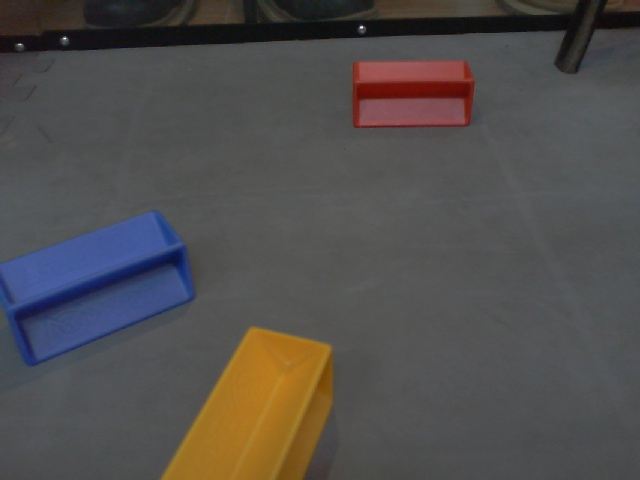BlueSample: (1, 205, 196, 370)
RedSample: (349, 57, 478, 130)
YellowSample: (159, 321, 336, 480)
